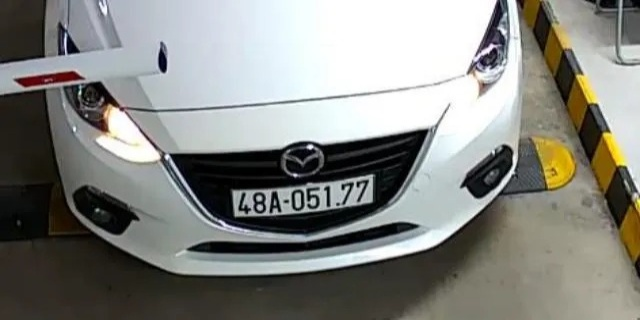bien_so: (233, 178, 372, 218)
